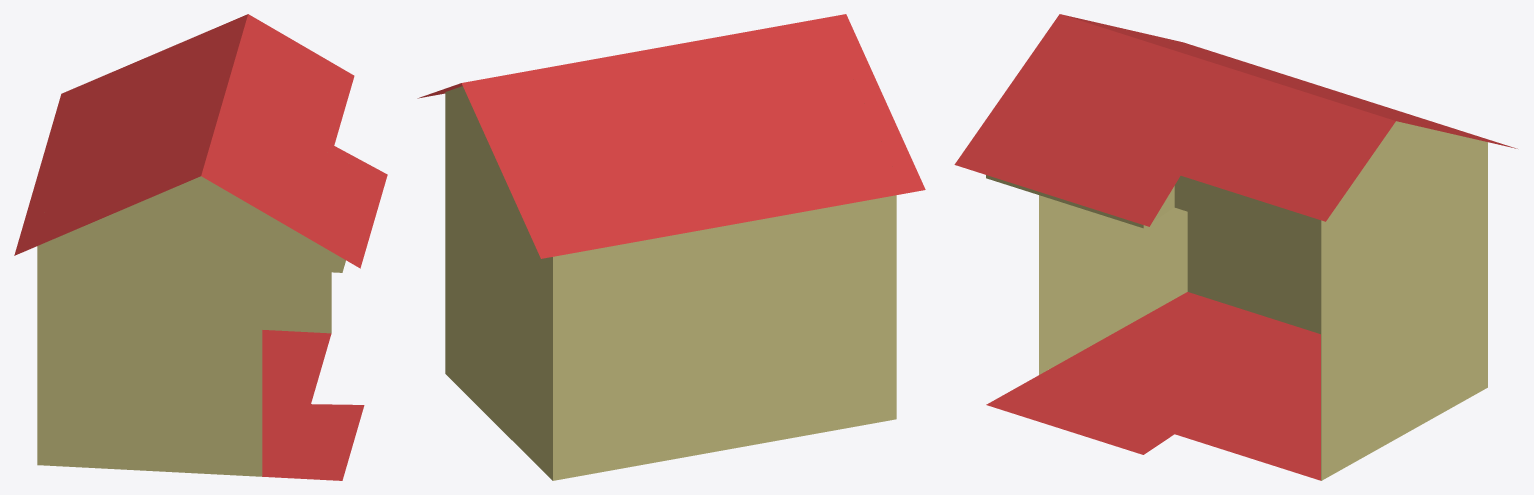
The picture shows the model from 3 angles, left to right: view 1: azimuth 30°, elevation 25°; view 2: azimuth 150°, elevation 25°; view 3: azimuth 270°, elevation 25°; orthographic projection. The views are drawn at different scales.
Visible parts, largest first — view 1: group_5, group_3, group_6, group_4; view 2: group_5, group_3, group_4; view 3: group_5, group_3, group_6, group_4.
Boxes of the visible parts, box(x1,y1,x2,y2) form: group_5: box(37, 176, 345, 476); group_3: box(14, 14, 387, 268); group_6: box(262, 330, 364, 480); group_4: box(14, 14, 360, 267); group_5: box(445, 86, 896, 480); group_3: box(461, 17, 924, 258); group_4: box(417, 14, 925, 208); group_5: box(986, 121, 1487, 480); group_3: box(954, 14, 1517, 226); group_6: box(986, 292, 1320, 480); group_4: box(955, 14, 1395, 188).
Bounding box in the file's own units: 17.02 × 18.83 × 12.27.
